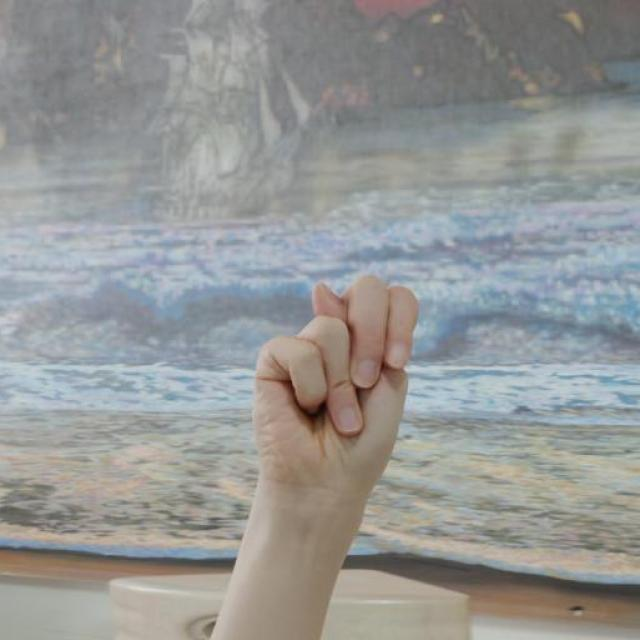N: (245, 272, 424, 508)
